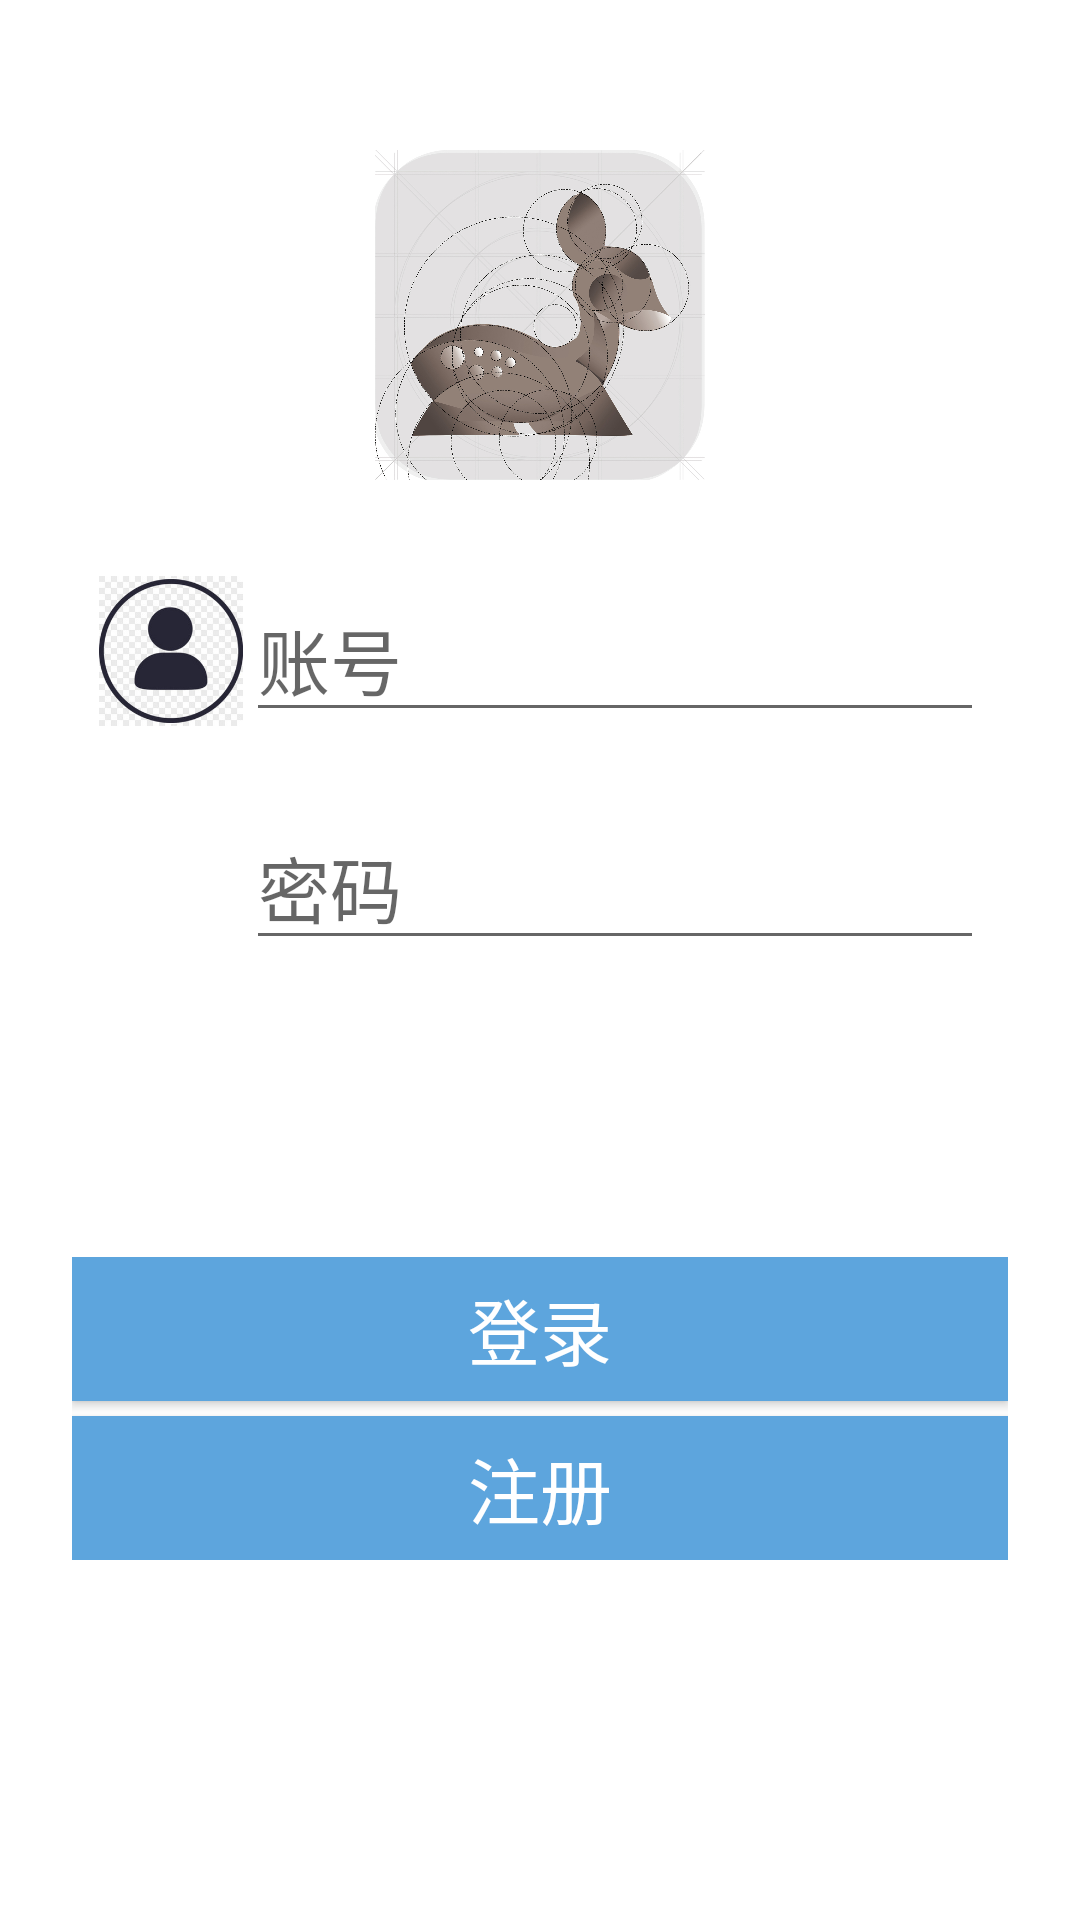

Icons on this 1080px×1920px Android screen, each with the point to tap as point (x, y):
account: point (171, 651)
